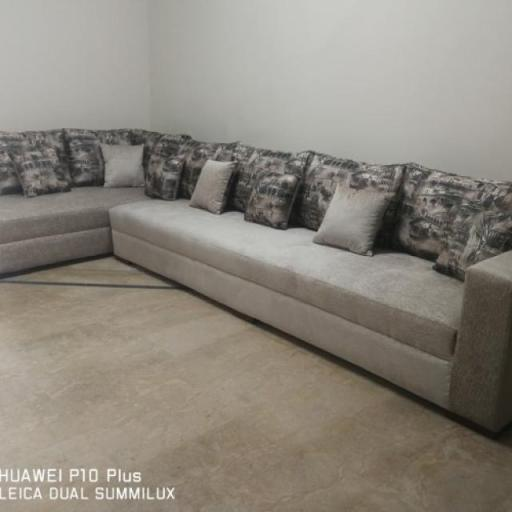sofa: (0, 94, 512, 442)
